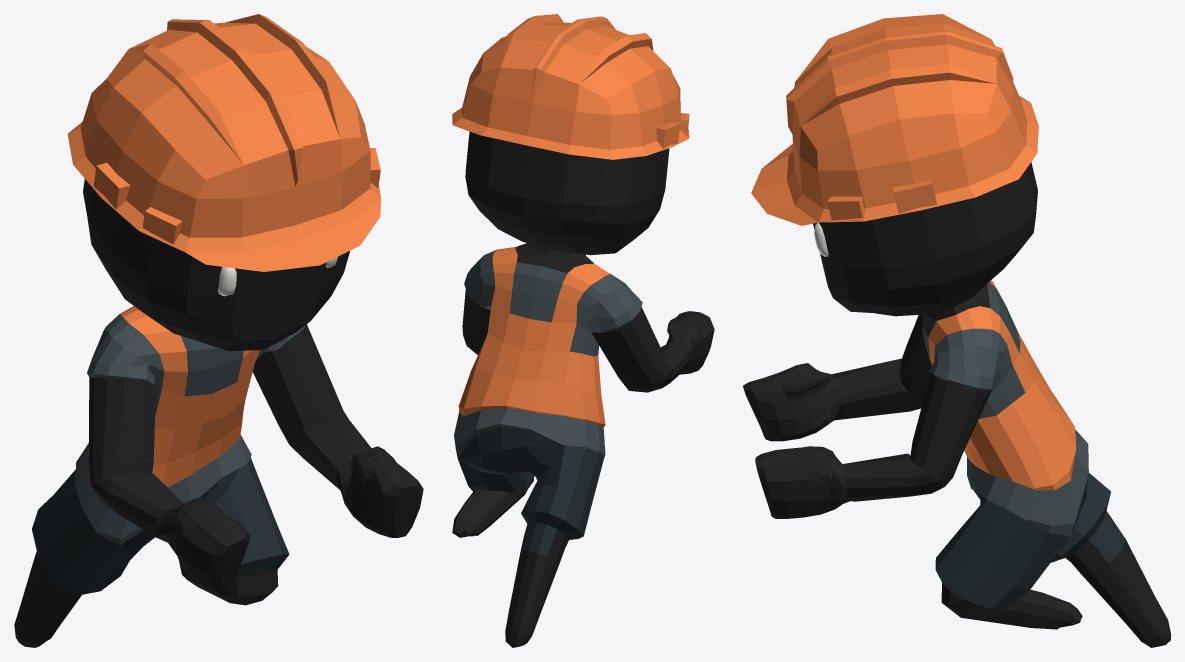
File: responder-fire.glb
The picture shows the model from 3 angles, left to right: view 1: azimuth 30°, elevation 25°; view 2: azimuth 150°, elevation 25°; view 3: azimuth 270°, elevation 25°; orthographic projection. The views are drawn at different scales.
Visible parts, largest first — view 1: Body.001; view 2: Body.001; view 3: Body.001.
Boxes of the visible parts, box(x1,y1,x2,y2) form: Body.001: box(14, 14, 423, 647); Body.001: box(452, 14, 714, 647); Body.001: box(743, 14, 1170, 647).
Size of the model in its own units: 1.19 by 3.07 by 1.85.
